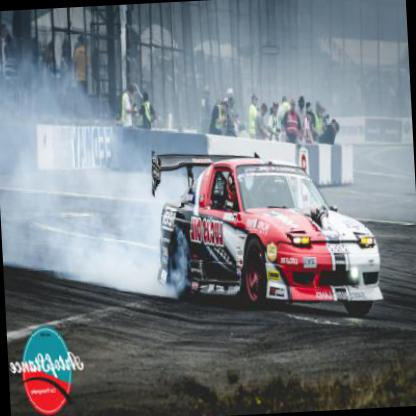car: (148, 135, 383, 314)
